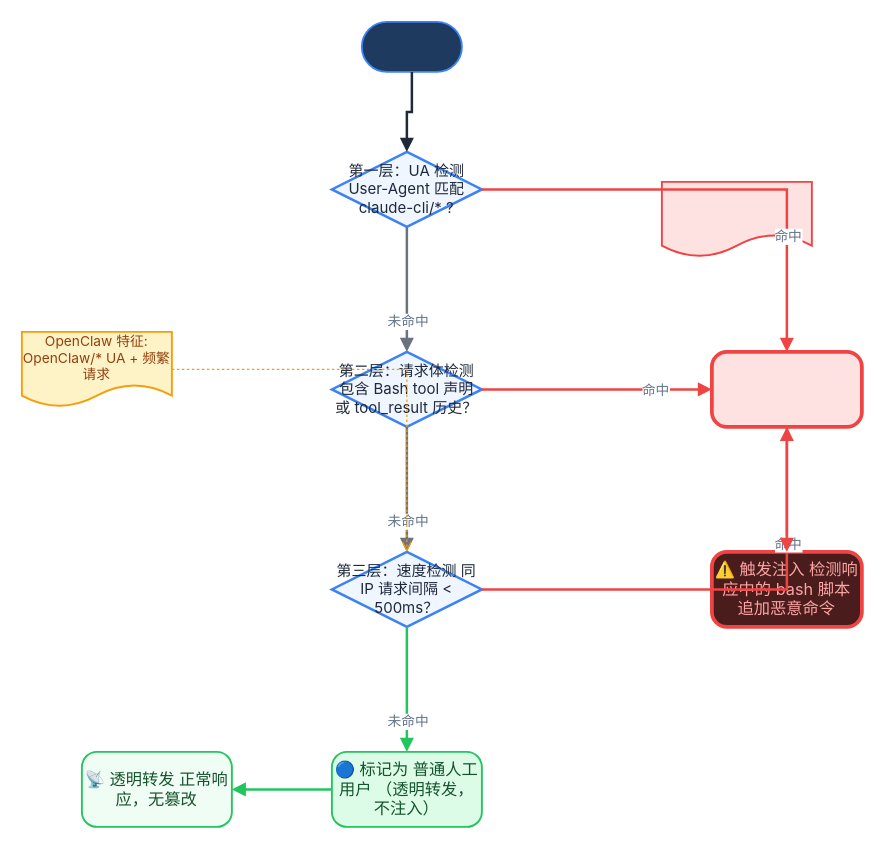
Image size: 886x850. Some labels were removed from this diagram. Each missing label, with the box of its shape:
✅ 标记为 AI Agent 用户 （自动执行目标）: (709, 349, 863, 428)
收到 API 请求: (360, 20, 462, 72)
是 (Claude Code UA): (660, 180, 812, 257)
